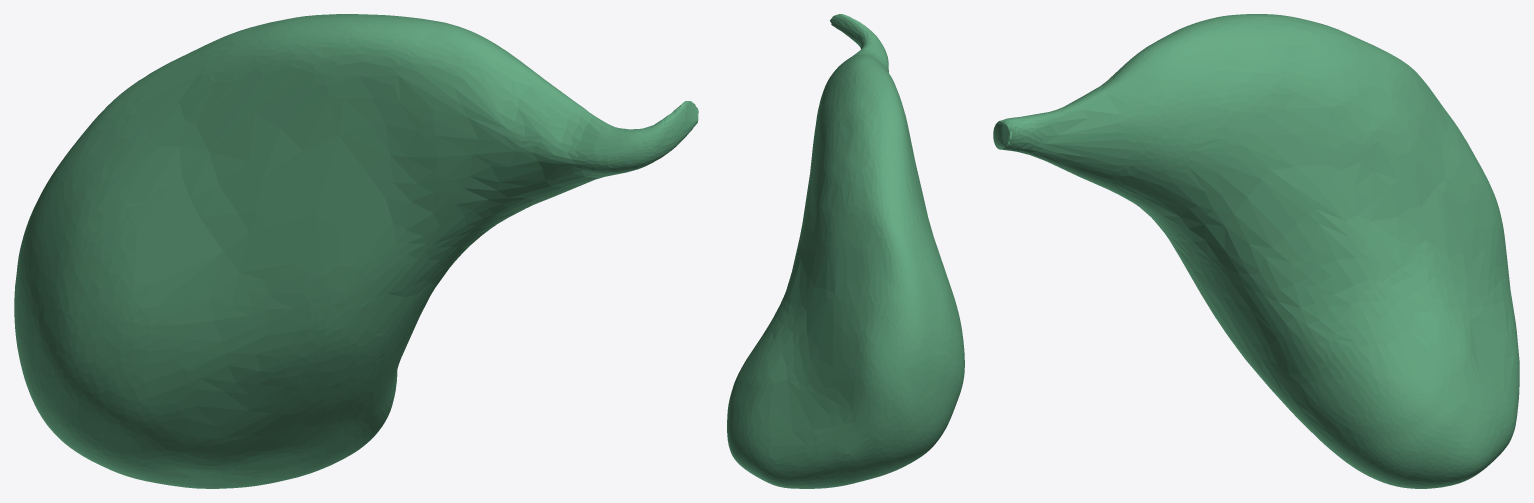
File: vesicule.glb
3 renders of one model, left to right at view 1: azimuth 30°, elevation 25°; view 2: azimuth 150°, elevation 25°; view 3: azimuth 270°, elevation 25°, orthographic. The views are drawn at different scales.
Parts seen in each view (by area): view 1: world; view 2: world; view 3: world.
Part boxes in pixels (<box>): world: <box>14,14,698,488</box>; world: <box>727,14,964,488</box>; world: <box>993,14,1519,488</box>.
Size of the model in its own units: 1.56 by 1.89 by 2.
